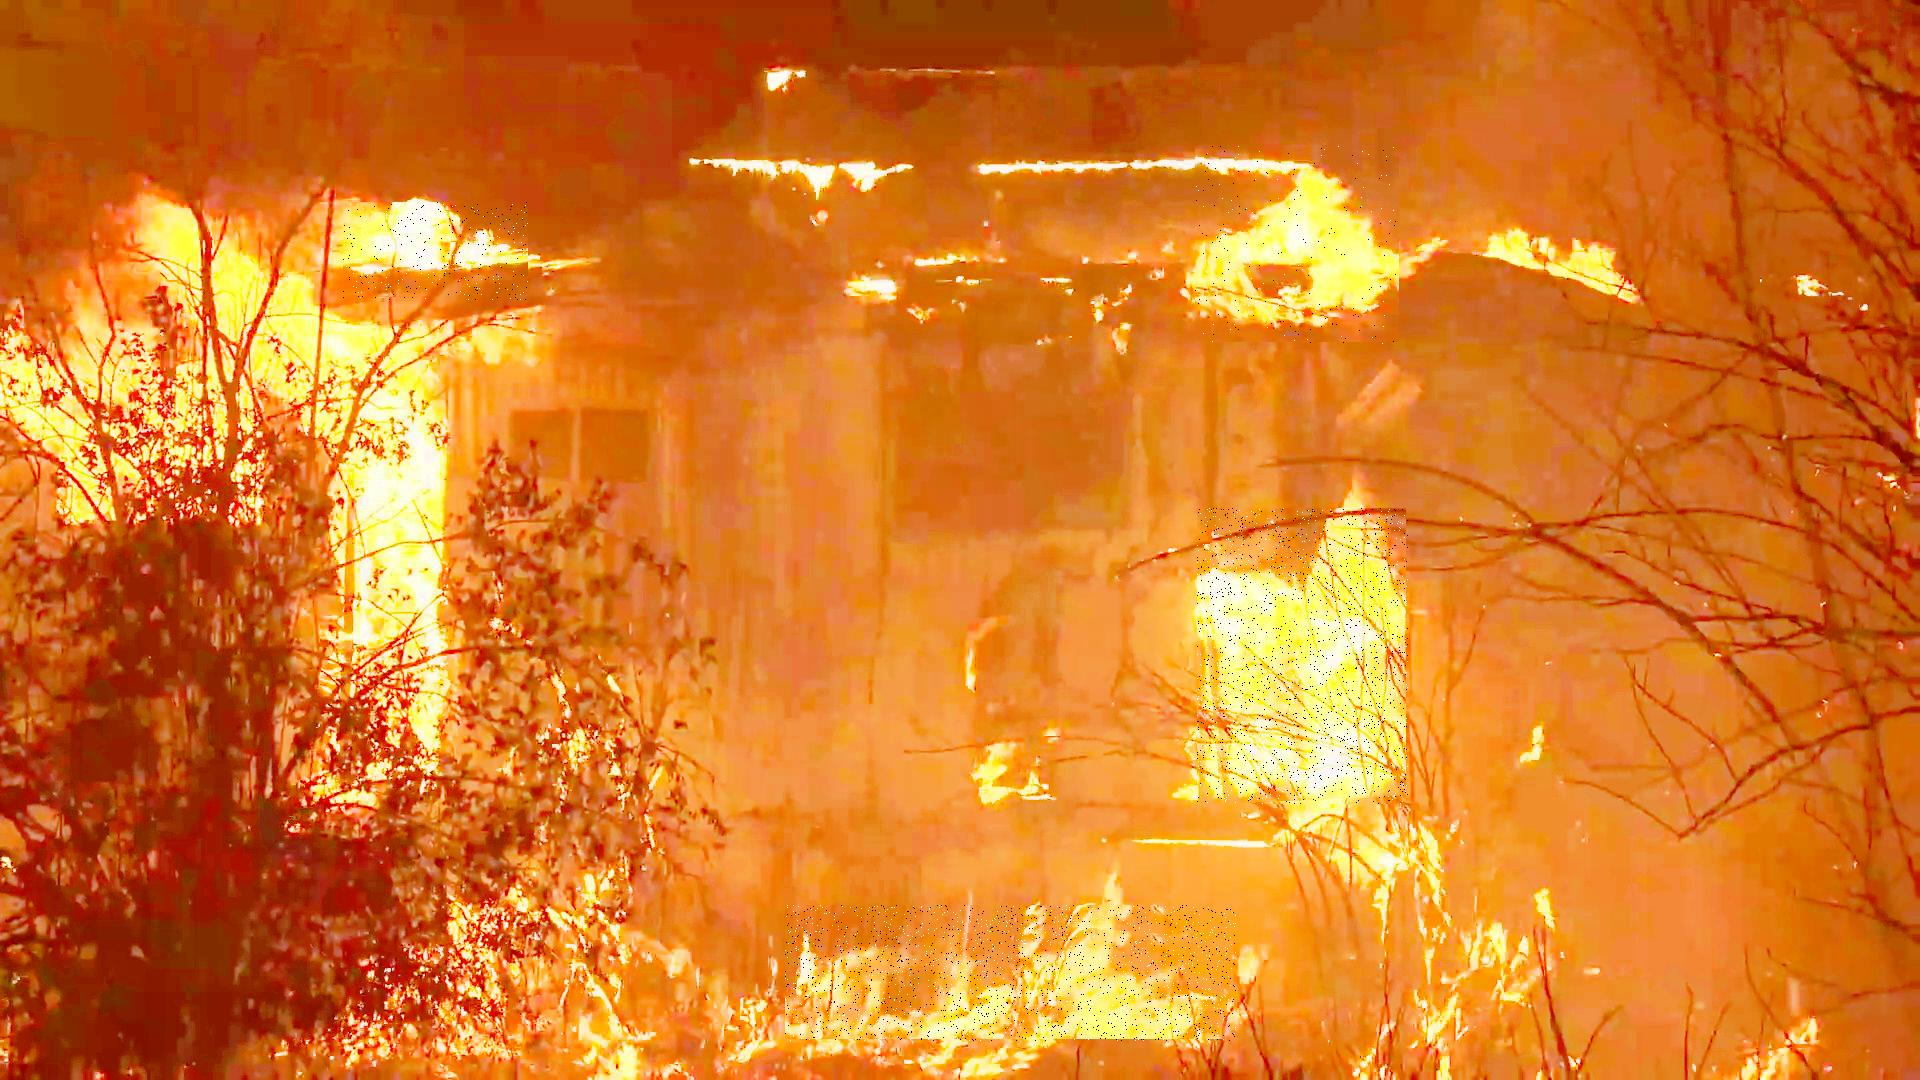fire: (1197, 508, 1408, 804), (786, 906, 1237, 1042), (1195, 145, 1399, 344), (343, 203, 527, 301)
